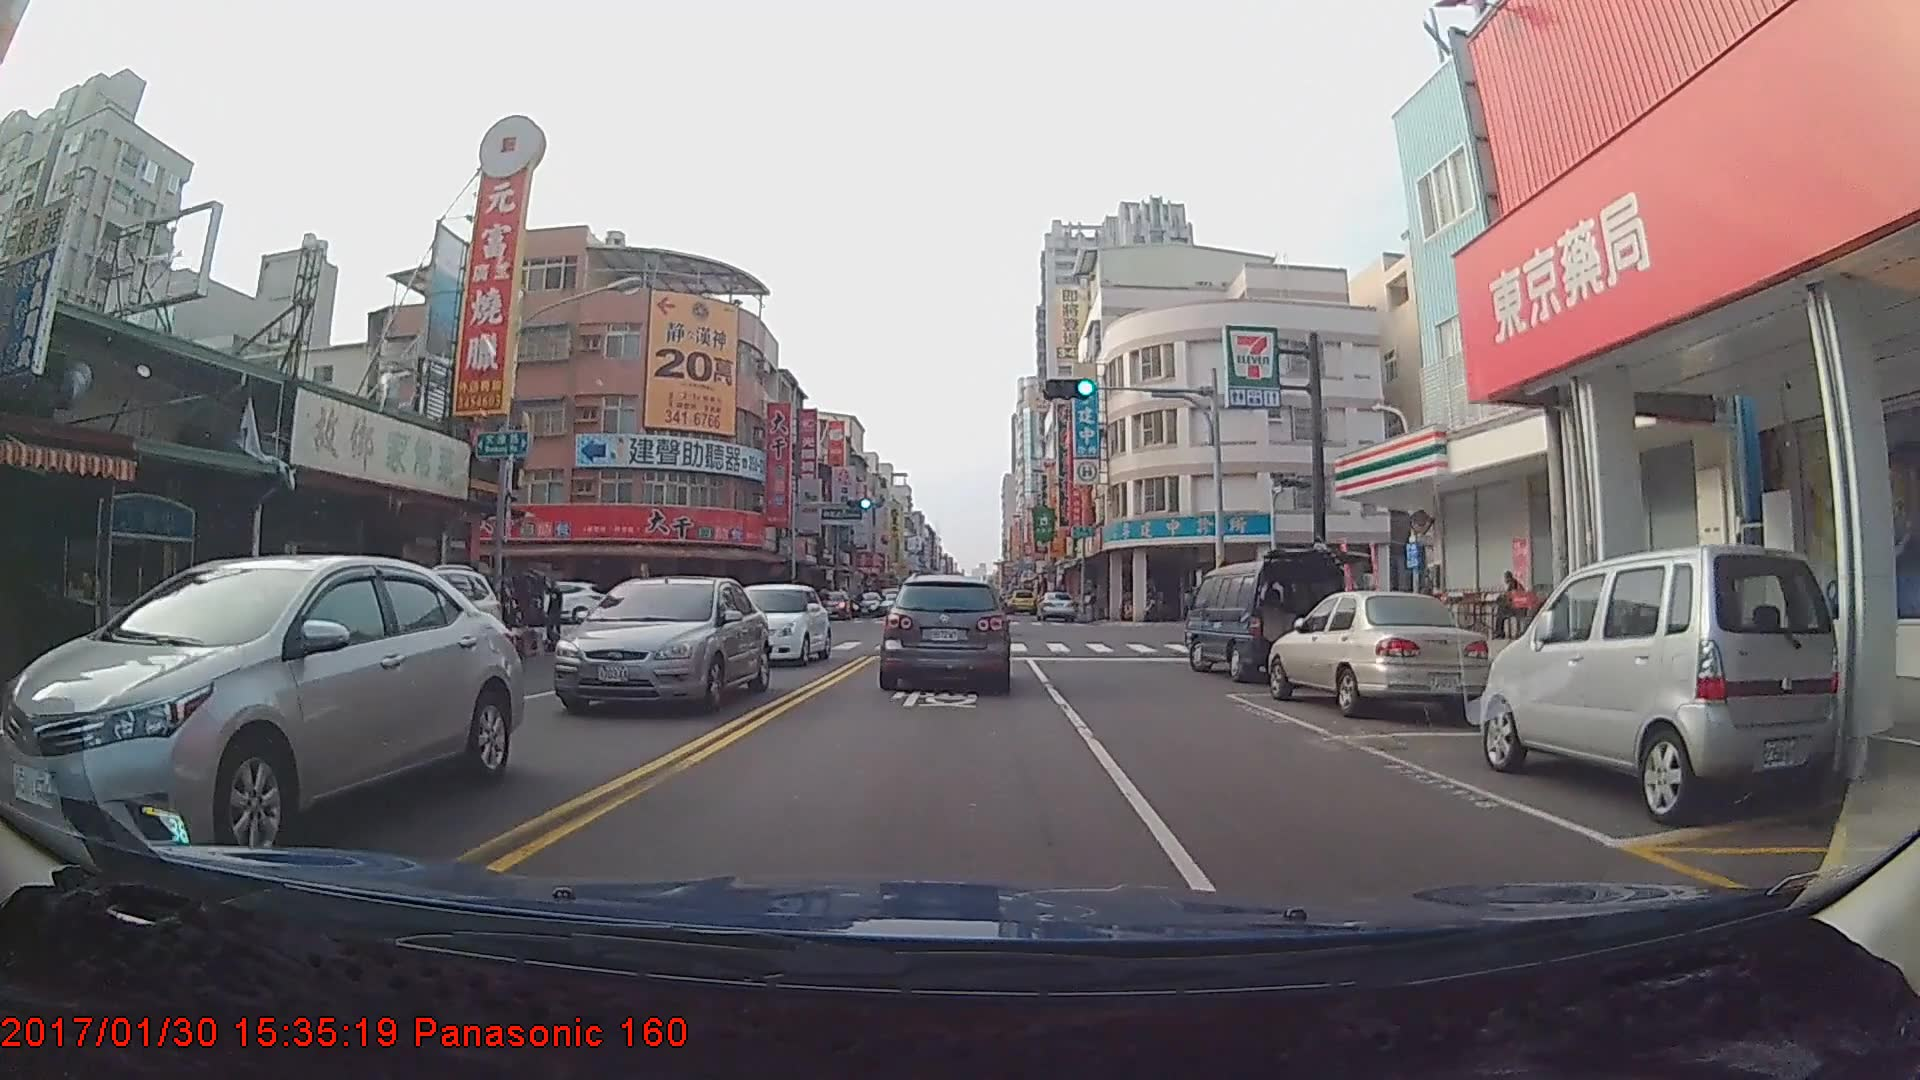vehicle: (0, 563, 524, 865), (1482, 541, 1842, 819), (559, 571, 766, 715), (1271, 588, 1484, 717), (1184, 563, 1341, 676), (880, 568, 1011, 694), (711, 582, 829, 669), (1036, 589, 1077, 624), (811, 585, 848, 620), (849, 592, 884, 616), (1007, 589, 1035, 612)
